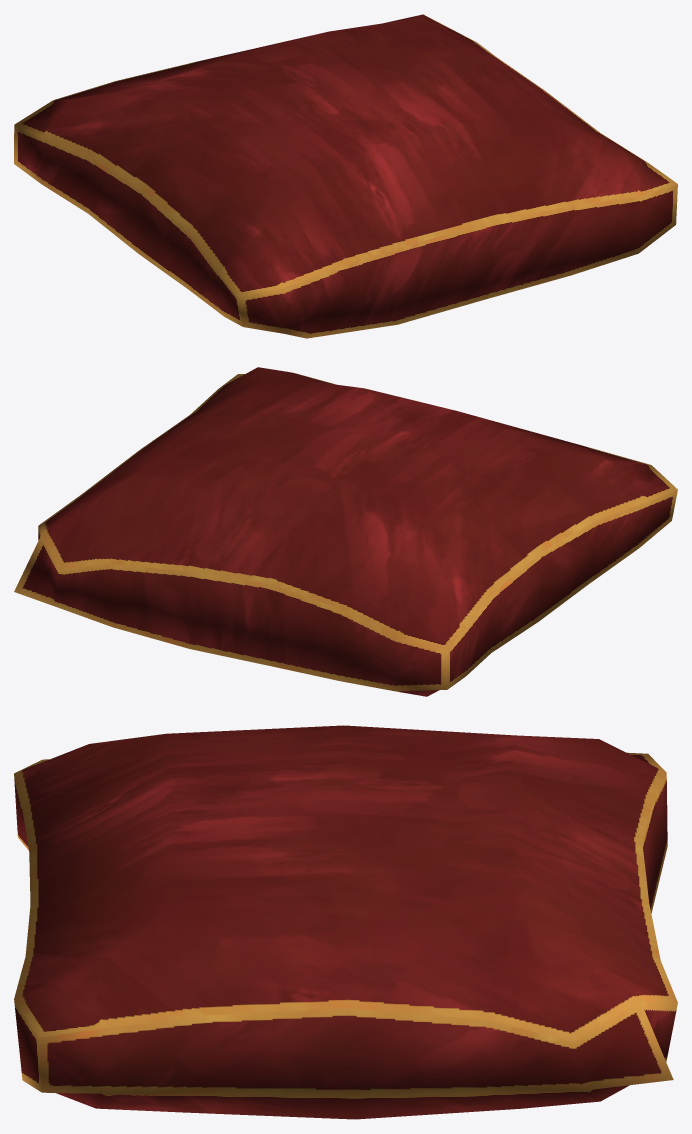
Rendered from House_Cushion_v01.fbx.
3 renders of one model, top to bottom at view 1: azimuth 30°, elevation 25°; view 2: azimuth 150°, elevation 25°; view 3: azimuth 270°, elevation 25°, orthographic. The views are drawn at different scales.
Parts seen in each view (by area): view 1: Cushion_01; view 2: Cushion_01; view 3: Cushion_01.
Boxes of the visible parts, bbox=[...] form: Cushion_01: bbox=[14, 14, 677, 338]; Cushion_01: bbox=[14, 367, 677, 696]; Cushion_01: bbox=[14, 725, 677, 1119].
Bounding box in the file's own units: 30.18 × 29.54 × 12.08.
1 material, 1 textured.
